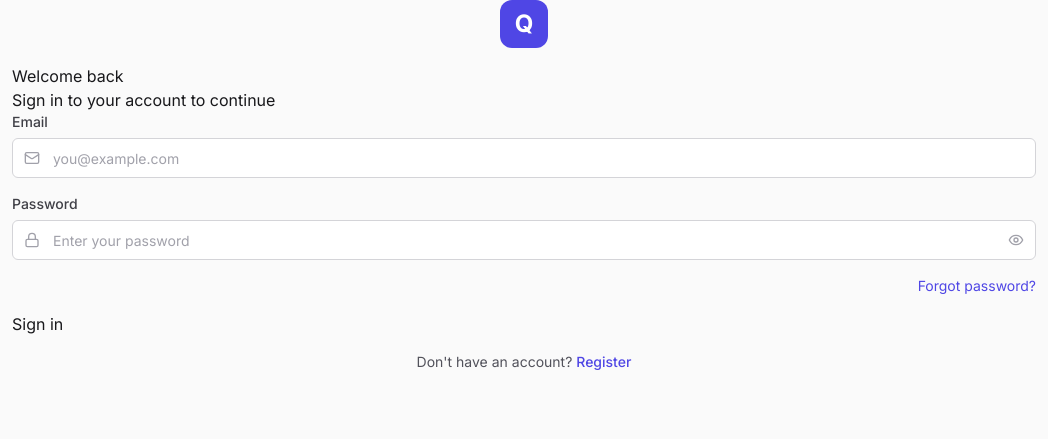
it: LoginForm › shows validation errors for empty fields
This screenshot has width=1048, height=439.
Click the button "Sign in" at x=38, y=324, box [12, 312, 63, 336]
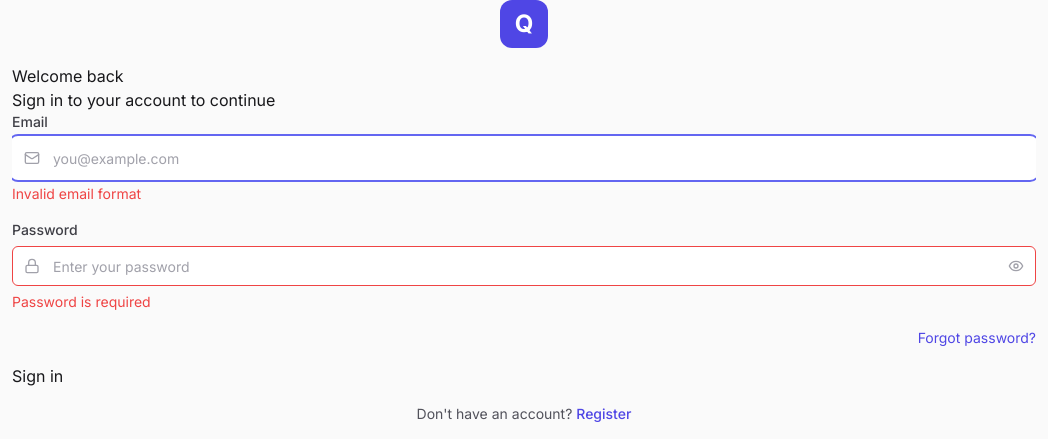
Check: the text "Invalid email format" is shown, box [12, 185, 141, 202]
